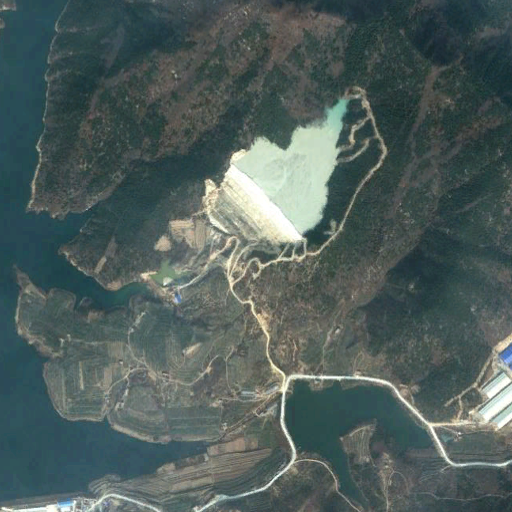tp: (210, 97, 348, 245)
